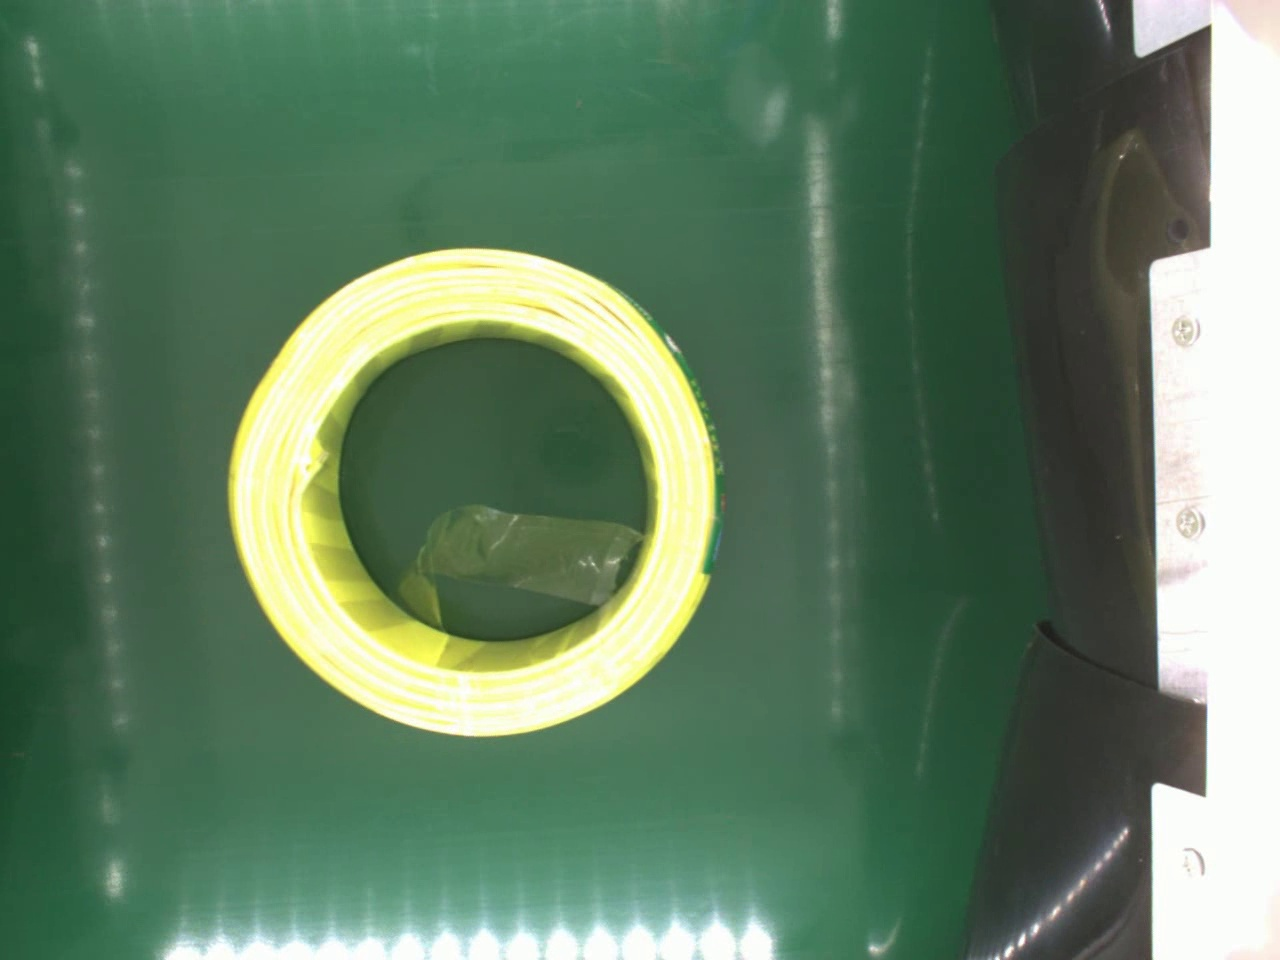yellow: (221, 239, 729, 743)
